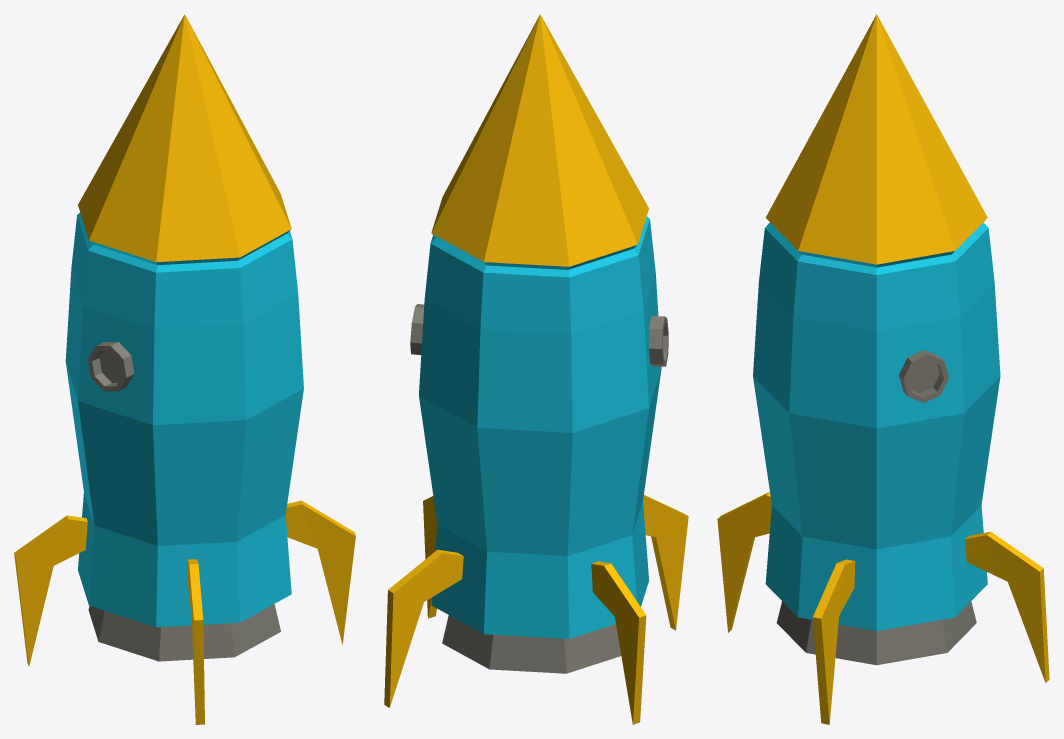
The picture shows the model from 3 angles, left to right: view 1: azimuth 30°, elevation 25°; view 2: azimuth 150°, elevation 25°; view 3: azimuth 270°, elevation 25°; orthographic projection.
Parts seen in each view (by area): view 1: Cylinder, Cube.004, Cube.006, Cube.005, Cylinder.001; view 2: Cylinder, Cube.001, Cube.004, Cube.005, Cylinder.001, Cube.006, Cylinder.002; view 3: Cylinder, Cube.001, Cube.005, Cube.006, Cylinder.002.
Boxes of the visible parts, x1=… form: Cylinder: x1=65, y1=14, x2=303, y2=661; Cube.004: x1=14, y1=515, x2=87, y2=666; Cube.006: x1=285, y1=500, x2=355, y2=644; Cube.005: x1=187, y1=559, x2=204, y2=724; Cylinder.001: x1=88, y1=342, x2=134, y2=391; Cylinder: x1=419, y1=14, x2=661, y2=673; Cube.001: x1=384, y1=549, x2=463, y2=707; Cube.004: x1=591, y1=561, x2=646, y2=724; Cube.005: x1=643, y1=495, x2=688, y2=630; Cylinder.001: x1=649, y1=316, x2=668, y2=366; Cube.006: x1=423, y1=496, x2=437, y2=618; Cylinder.002: x1=410, y1=304, x2=424, y2=355; Cylinder: x1=753, y1=14, x2=1000, y2=665; Cube.001: x1=965, y1=531, x2=1049, y2=682; Cube.005: x1=717, y1=492, x2=771, y2=632; Cube.006: x1=812, y1=559, x2=855, y2=724; Cylinder.002: x1=899, y1=350, x2=948, y2=402.
Size of the model in its own units: 291 by 641 by 299.
